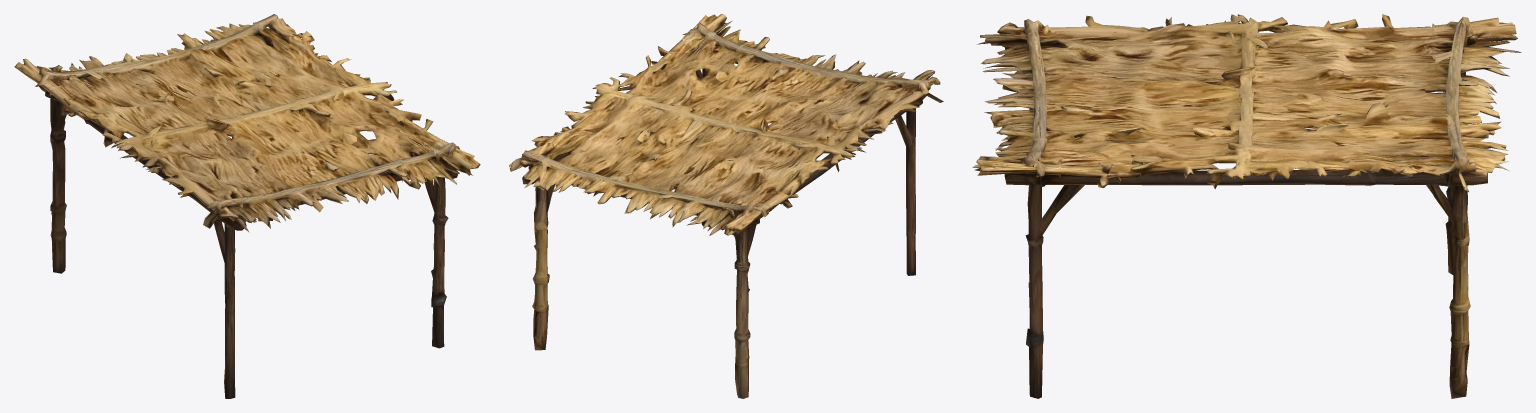
File: shade.glb
3 renders of one model, left to right at view 1: azimuth 30°, elevation 25°; view 2: azimuth 150°, elevation 25°; view 3: azimuth 270°, elevation 25°, orthographic. The views are drawn at different scales.
Visible parts, largest first — view 1: tripo_node_2df2063d-77aa-48d8-8c36-319720b61ca0; view 2: tripo_node_2df2063d-77aa-48d8-8c36-319720b61ca0; view 3: tripo_node_2df2063d-77aa-48d8-8c36-319720b61ca0.
Part boxes in pixels (x1,y1,x2,y2): tripo_node_2df2063d-77aa-48d8-8c36-319720b61ca0: [14, 14, 480, 398]; tripo_node_2df2063d-77aa-48d8-8c36-319720b61ca0: [509, 14, 943, 398]; tripo_node_2df2063d-77aa-48d8-8c36-319720b61ca0: [972, 14, 1521, 398].
Bounding box in the file's own units: 0.7071 × 0.4991 × 1.
Materials: 1 (1 with a texture image).
